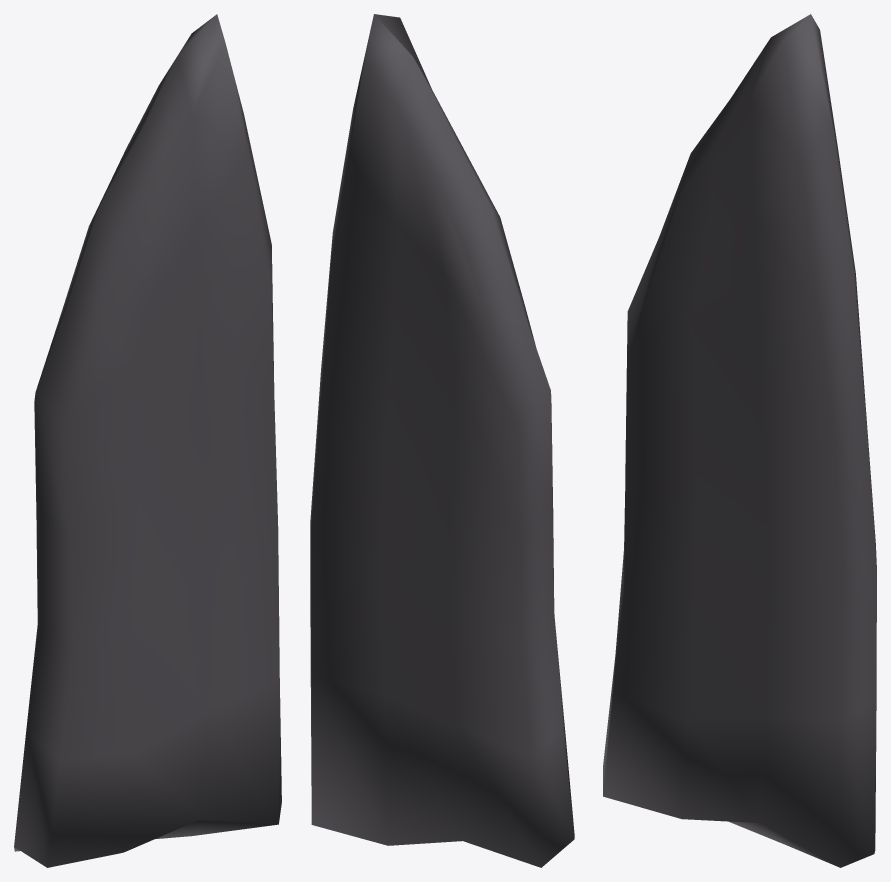
File: SM_ArenaBoundary_StandingStone.fbx
3 views of the same model, side by side, from view 1: azimuth 30°, elevation 25°; view 2: azimuth 150°, elevation 25°; view 3: azimuth 330°, elevation 25° (orthographic). The views are drawn at different scales.
Visible parts, largest first — view 1: StandingStone; view 2: StandingStone; view 3: StandingStone.
Part boxes in pixels (<box>): StandingStone: <box>14,14,281,867</box>; StandingStone: <box>310,14,574,867</box>; StandingStone: <box>603,14,876,867</box>.
Size of the model in its own units: 733 by 2158 by 199.
